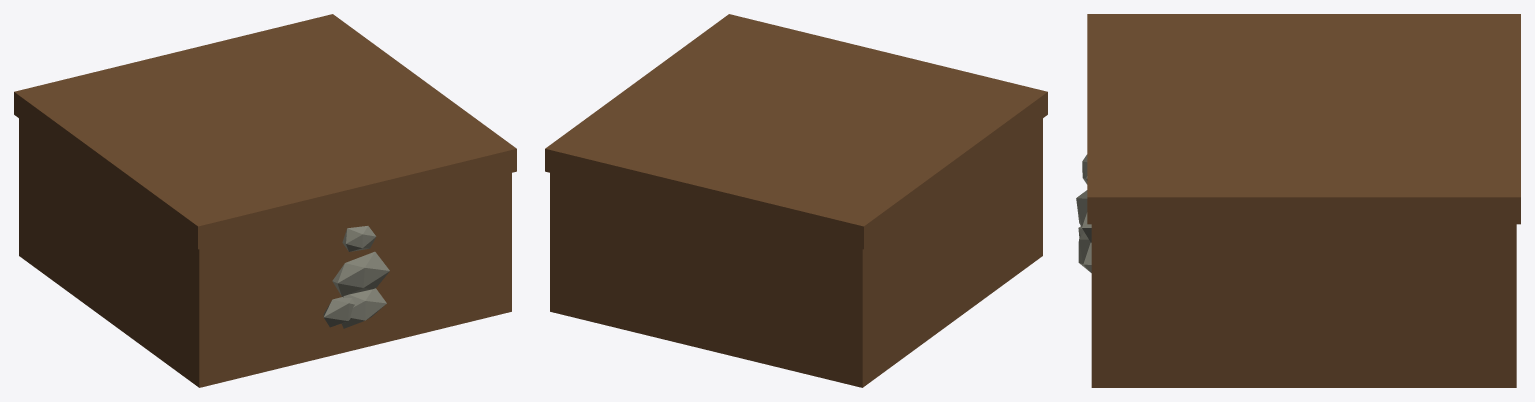
File: ground_straight_earth.glb
The picture shows the model from 3 angles, left to right: view 1: azimuth 30°, elevation 25°; view 2: azimuth 150°, elevation 25°; view 3: azimuth 270°, elevation 25°; orthographic projection. The views are drawn at different scales.
Parts seen in each view (by area): view 1: earth-col, dirt-col, stone; view 2: earth-col, dirt-col; view 3: earth-col, dirt-col, stone.
Part boxes in pixels (x1,y1,x2,y2): earth-col: (14, 14, 516, 249); dirt-col: (19, 118, 511, 387); stone: (323, 226, 389, 328); earth-col: (545, 14, 1047, 249); dirt-col: (550, 118, 1042, 387); earth-col: (1087, 14, 1520, 224); dirt-col: (1091, 224, 1516, 387); stone: (1076, 154, 1091, 272).
Size of the model in its own units: 4.08 by 2 by 4.19.
